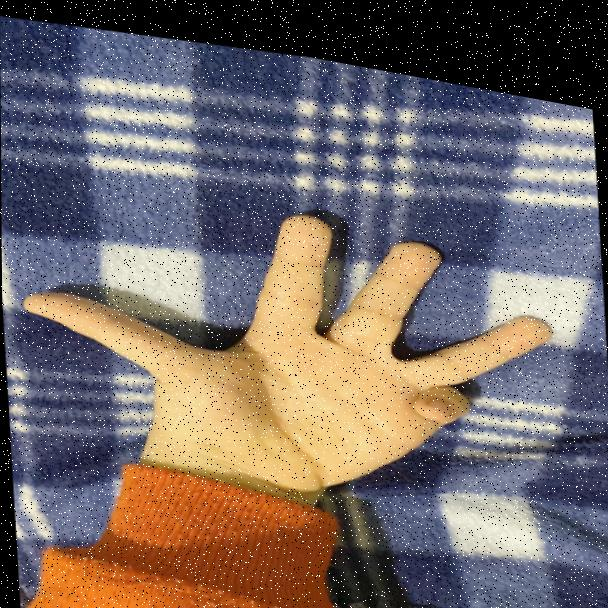five: (19, 156, 560, 524)
